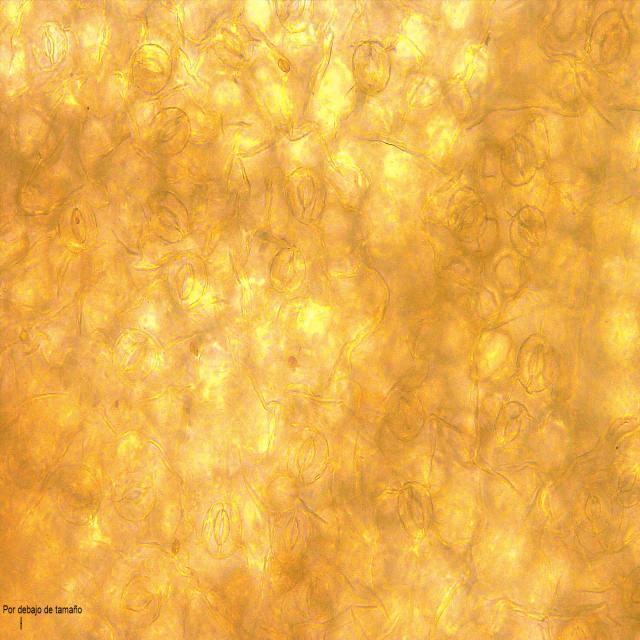Stomata: (54, 464, 104, 528), (586, 7, 633, 74), (208, 14, 258, 75), (512, 329, 556, 398), (198, 498, 245, 562), (282, 163, 330, 225), (284, 425, 332, 487), (110, 326, 160, 385), (127, 40, 176, 99), (109, 466, 158, 523), (145, 104, 193, 162), (165, 249, 209, 311), (271, 505, 314, 568), (444, 184, 488, 245), (395, 478, 436, 542), (571, 479, 615, 538), (144, 189, 191, 244), (57, 196, 100, 256), (350, 39, 393, 98), (118, 574, 162, 631), (382, 385, 425, 443), (498, 131, 540, 188), (26, 18, 70, 72), (274, 294, 320, 344), (508, 203, 548, 260), (492, 399, 534, 452), (268, 244, 310, 296), (606, 454, 640, 511), (270, 0, 319, 37)
